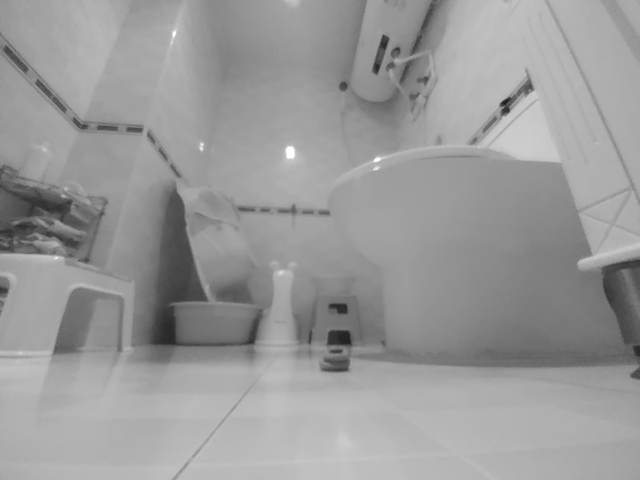pet feces: (320, 345, 351, 374)
